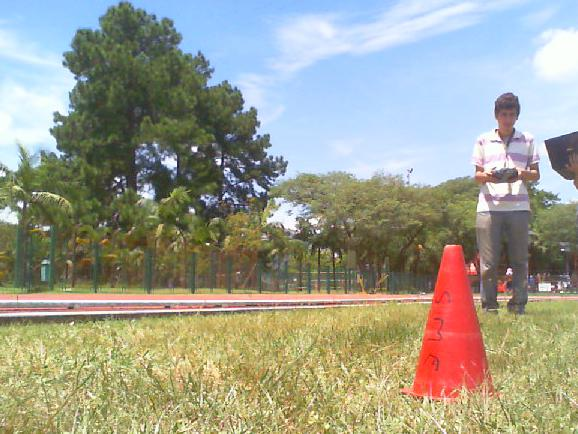0 cone: (400, 245, 501, 402)
